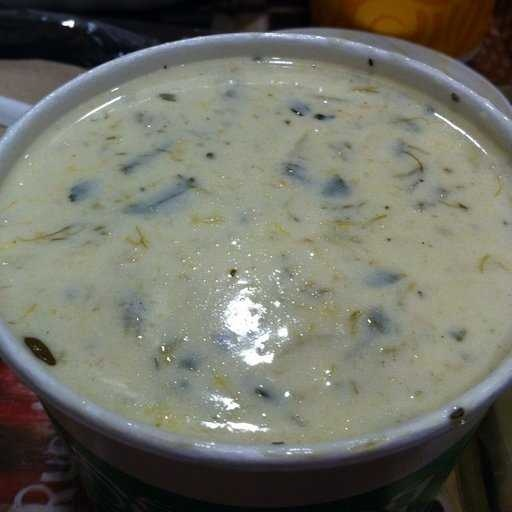soup: (1, 8, 490, 451)
